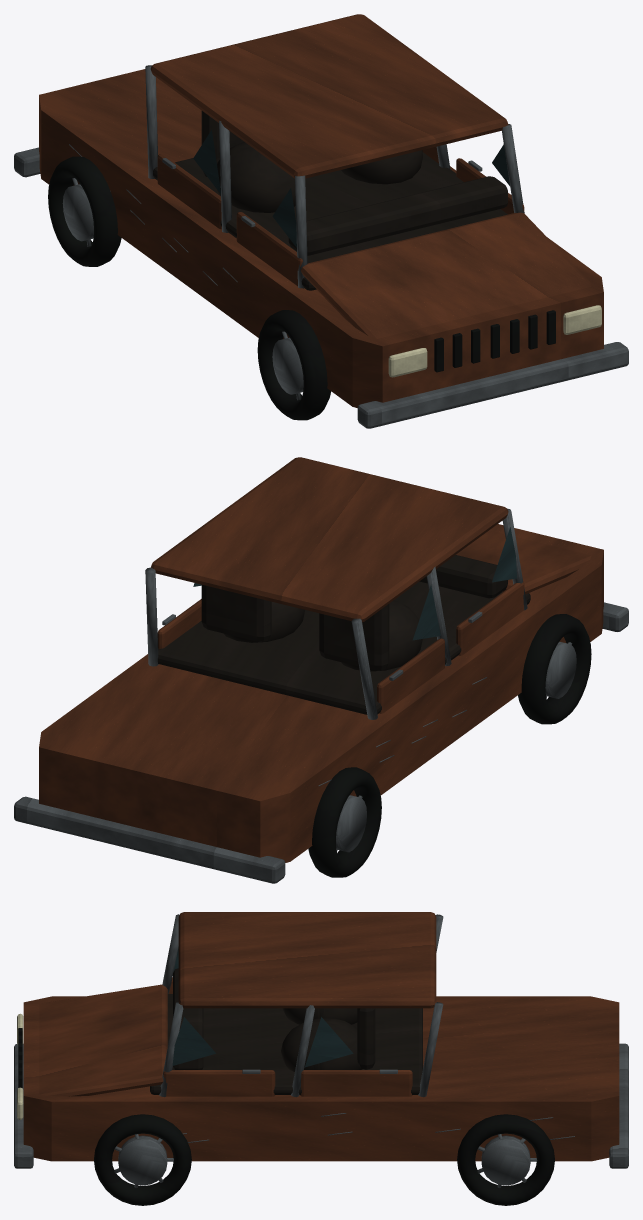
File: car_wreck.glb
3 views of the same model, one above another, from view 1: azimuth 30°, elevation 25°; view 2: azimuth 150°, elevation 25°; view 3: azimuth 270°, elevation 25° (orthographic). The views are drawn at different scales.
Visible parts, largest first — view 1: Dented_body_shell, Roof, Damaged_hood, Cabin_floor, Dashboard, Bumper, Treaded_tire, Treaded_tire.001, Front_seat, Door_skin.001, Door_skin, Front_seat.001 (+13 smaller); view 2: Dented_body_shell, Roof, Cabin_floor, Bumper.001, Treaded_tire.001, Treaded_tire, Damaged_hood, Seat_back.001, Seat_back, Door_skin.001, Door_skin, Dashboard (+11 smaller); view 3: Dented_body_shell, Roof, Damaged_hood, Cabin_floor, Treaded_tire.003, Treaded_tire.002, Door_skin.003, Door_skin.002, Front_seat.001, Wheel_hub.002, Wheel_hub.003, Bumper.001 (+10 smaller).
Boxes of the visible parts, bbox=[...] form: Dented_body_shell: bbox=[39, 69, 603, 407]; Roof: bbox=[150, 14, 508, 178]; Damaged_hood: bbox=[300, 212, 591, 338]; Cabin_floor: bbox=[153, 152, 507, 290]; Dashboard: bbox=[288, 176, 507, 255]; Bumper: bbox=[357, 342, 628, 428]; Treaded_tire: bbox=[257, 310, 331, 420]; Treaded_tire.001: bbox=[48, 156, 121, 266]; Front_seat: bbox=[217, 141, 295, 212]; Door_skin.001: bbox=[157, 154, 221, 229]; Door_skin: bbox=[236, 212, 302, 286]; Front_seat.001: bbox=[341, 150, 422, 184]; Dented_body_shell: bbox=[39, 524, 603, 862]; Roof: bbox=[151, 457, 508, 622]; Cabin_floor: bbox=[157, 581, 530, 714]; Bumper.001: bbox=[14, 796, 285, 883]; Treaded_tire.001: bbox=[308, 767, 381, 877]; Treaded_tire: bbox=[518, 614, 591, 724]; Damaged_hood: bbox=[456, 530, 591, 594]; Seat_back.001: bbox=[201, 585, 271, 641]; Seat_back: bbox=[319, 604, 389, 670]; Door_skin.001: bbox=[377, 638, 444, 713]; Door_skin: bbox=[456, 581, 524, 655]; Dashboard: bbox=[419, 555, 507, 598]; Dented_body_shell: bbox=[23, 996, 619, 1161]; Roof: bbox=[178, 912, 436, 1008]; Damaged_hood: bbox=[39, 984, 167, 1096]; Cabin_floor: bbox=[150, 994, 422, 1094]; Treaded_tire.003: bbox=[457, 1114, 554, 1205]; Treaded_tire.002: bbox=[94, 1114, 191, 1205]; Door_skin.003: bbox=[300, 1070, 412, 1096]; Door_skin.002: bbox=[163, 1070, 275, 1096]; Front_seat.001: bbox=[281, 1018, 362, 1072]; Wheel_hub.002: bbox=[118, 1135, 167, 1185]; Wheel_hub.003: bbox=[481, 1135, 530, 1185]; Bumper.001: bbox=[609, 1043, 628, 1168].
Bounding box in the file's own units: 2.03 × 1.53 × 4.39.
6 materials, 6 textured.
